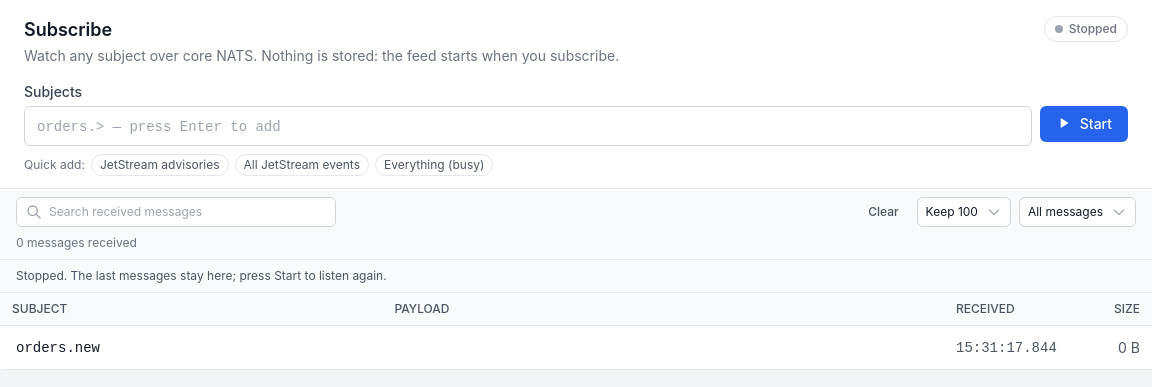
Test case: SubscribePage › shortens a large paused count
Type "orders.>" into the dropdown labelled "Subjects" at (528, 127), box [33, 115, 1023, 139]
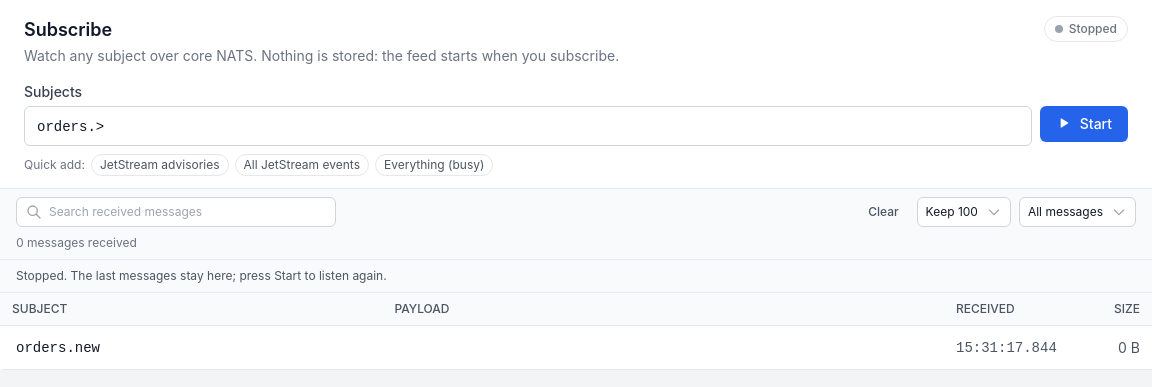
Press Enter in the dropdown labelled "Subjects", box [33, 115, 1023, 139]
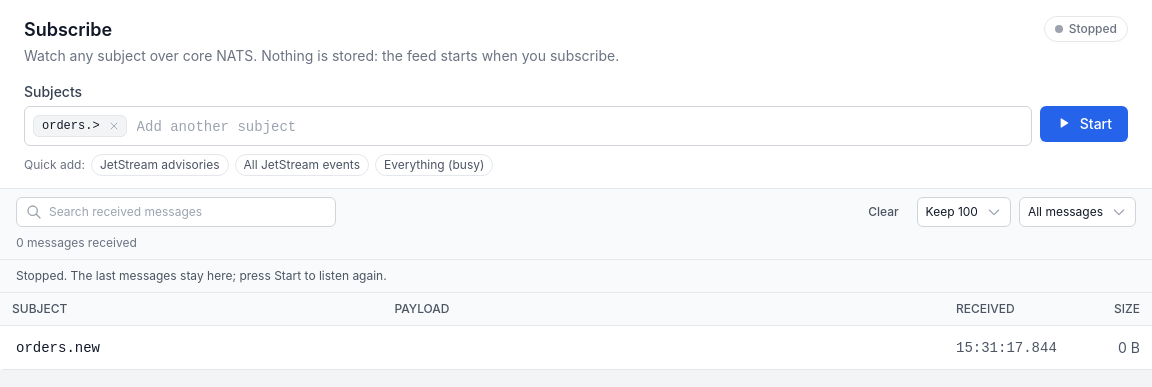
Click the button "Start" at (1084, 124), box [1040, 106, 1128, 142]
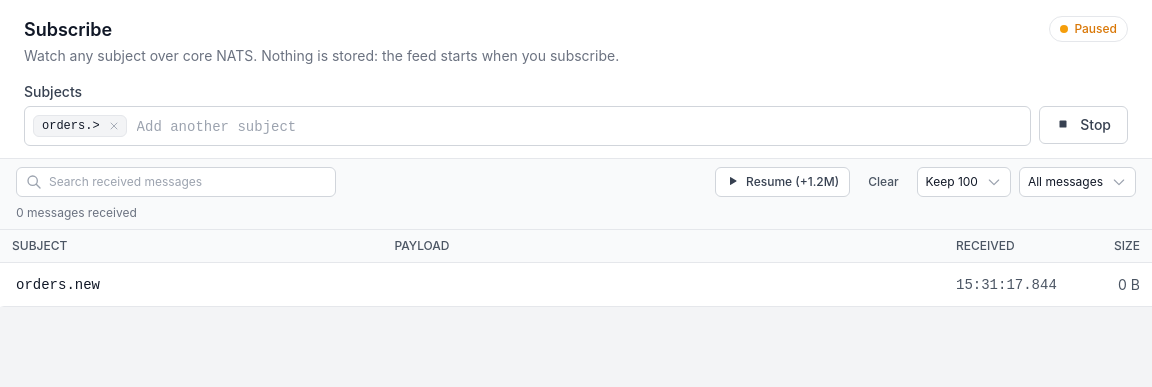
Expected: the button "Resume (+1.2M)" is shown, [715, 167, 850, 197]
